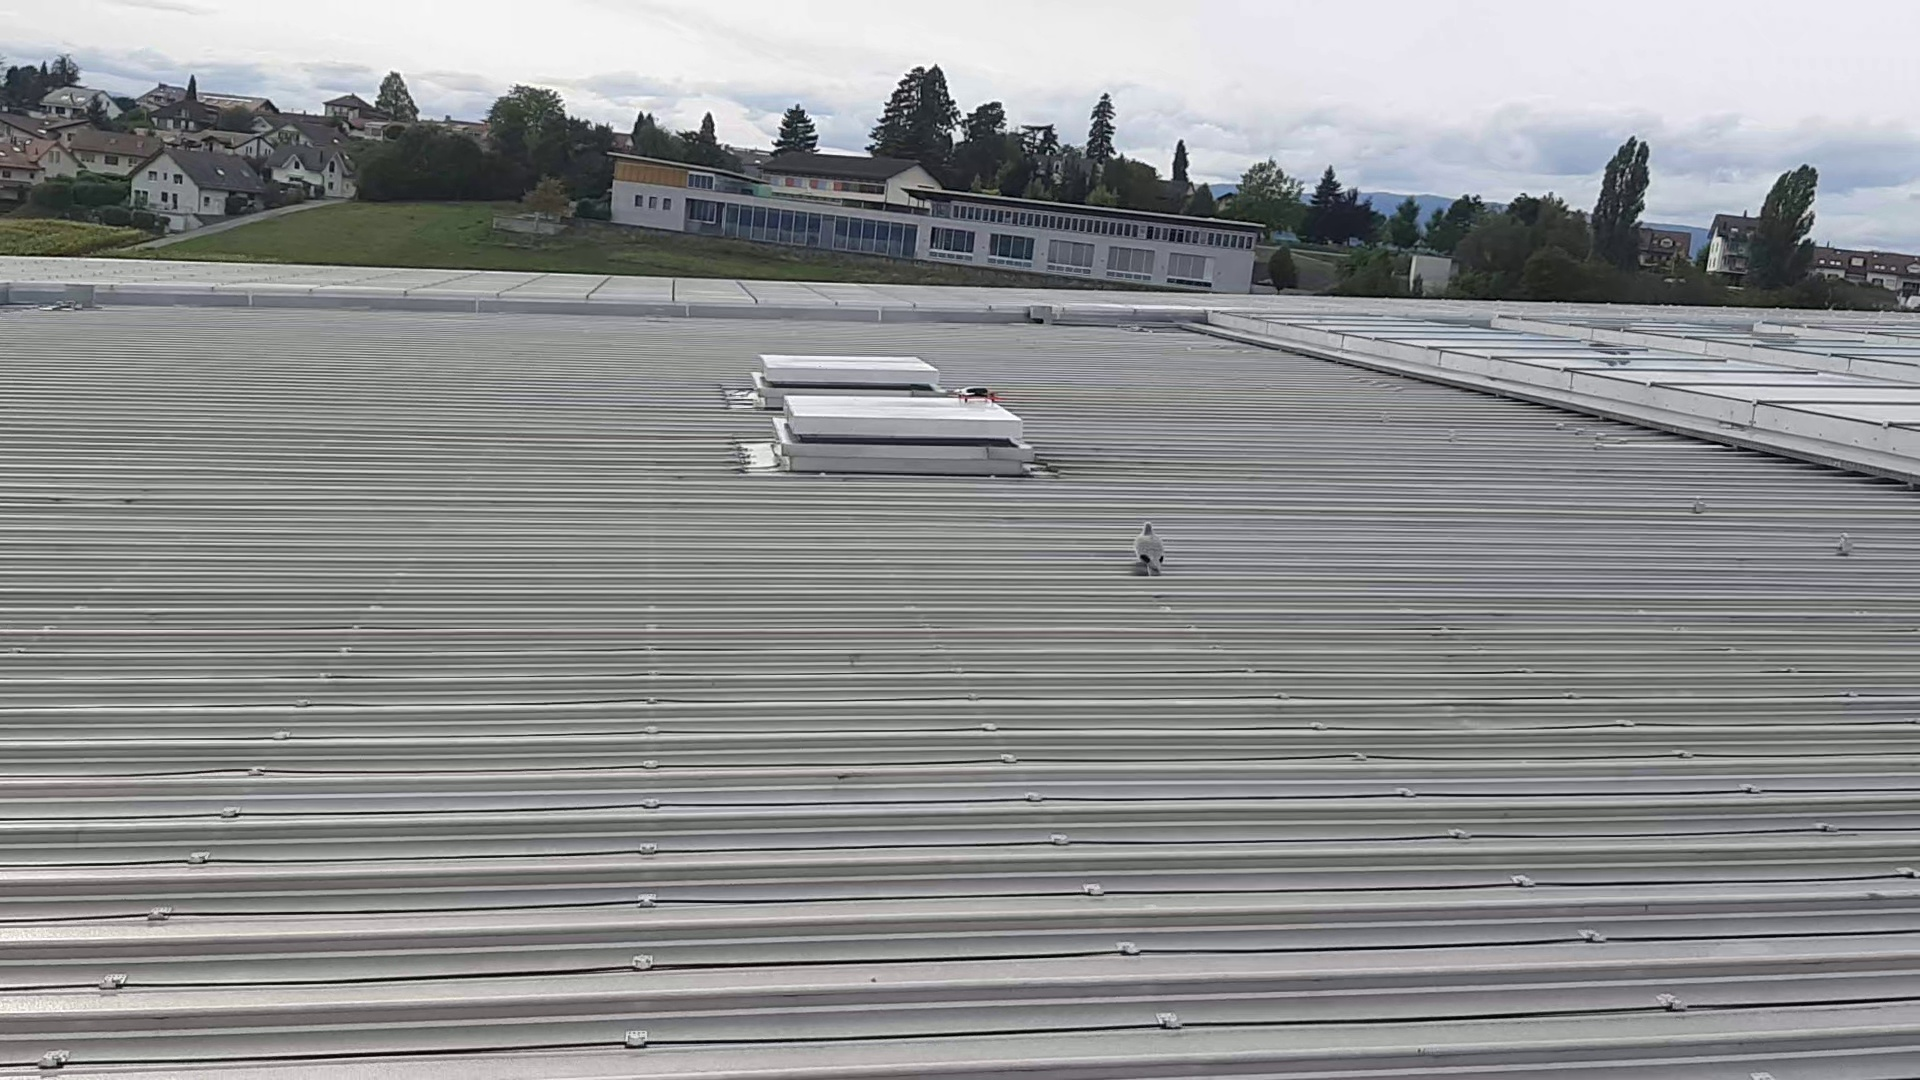Pigeon: (1129, 518, 1170, 580)
